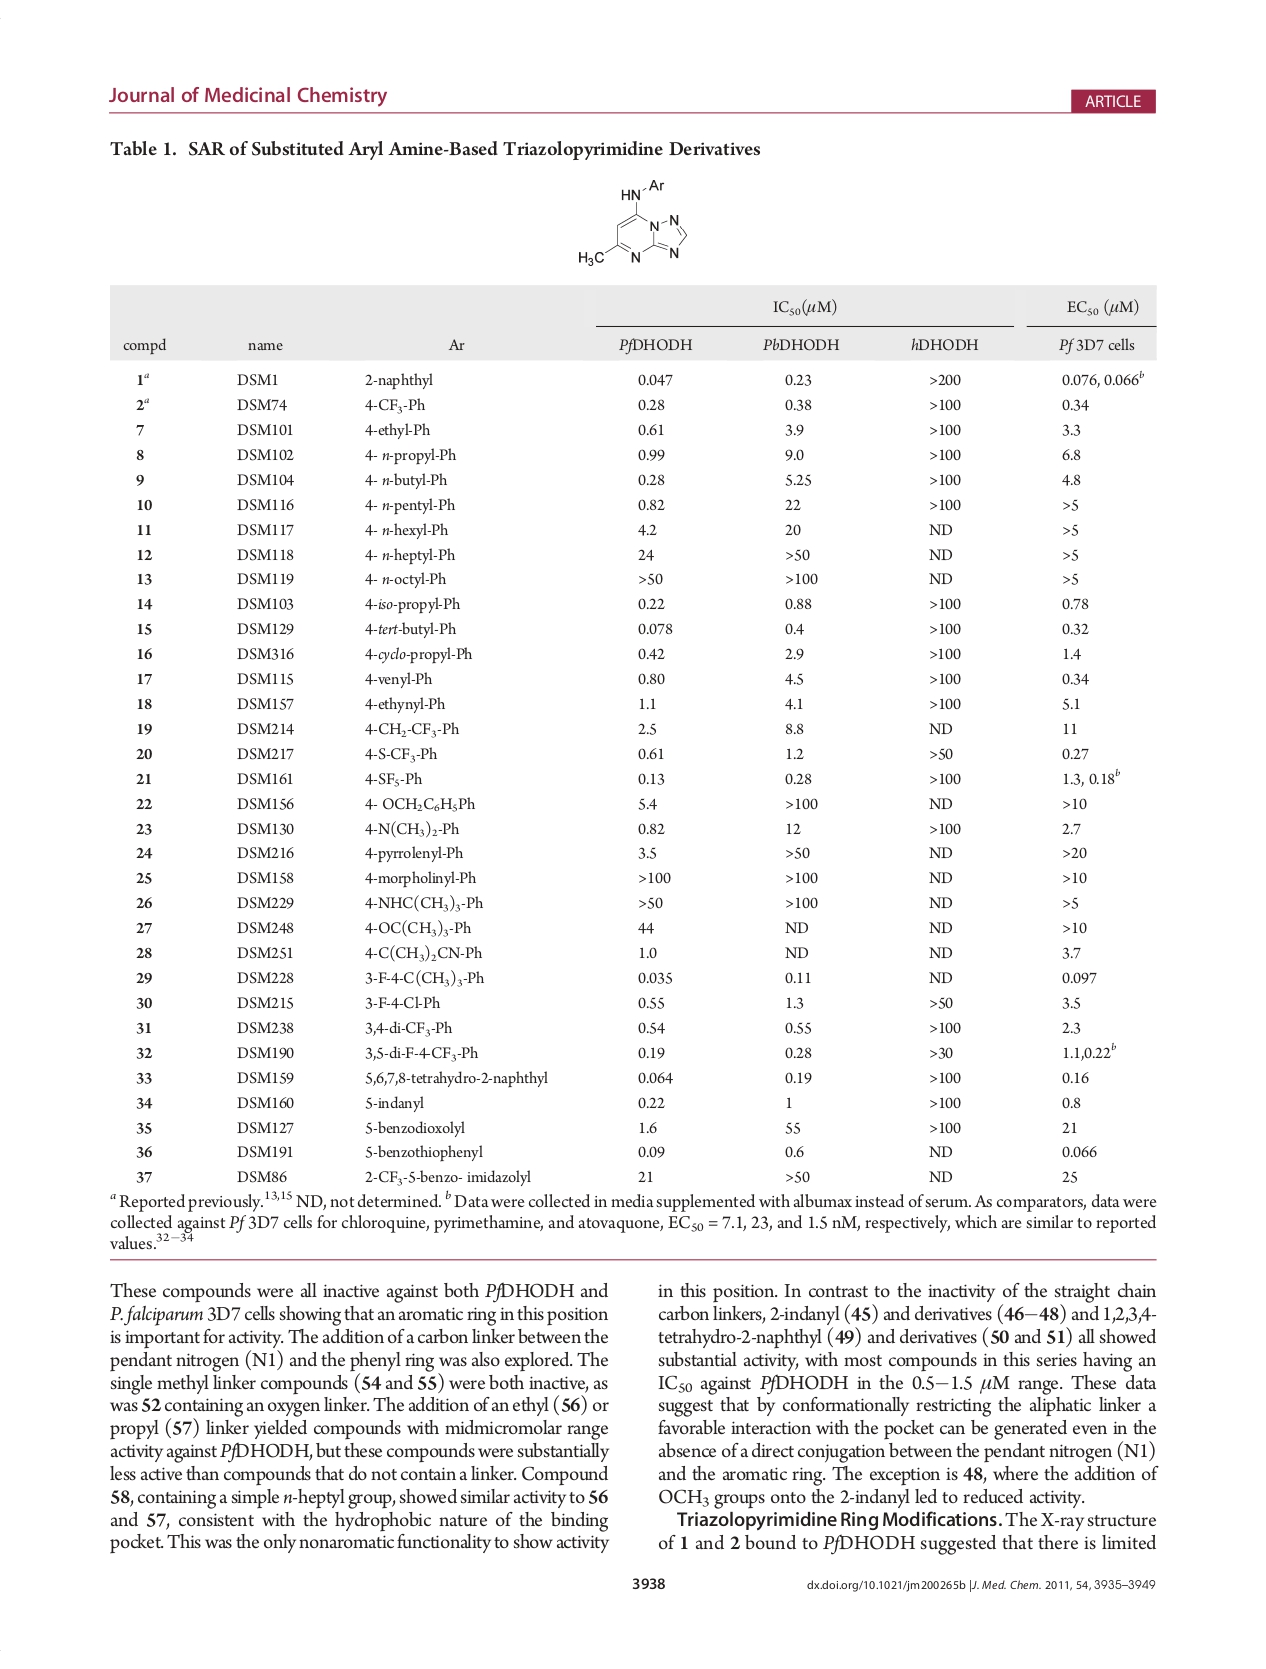exist_molecular: (576, 176, 689, 271)
